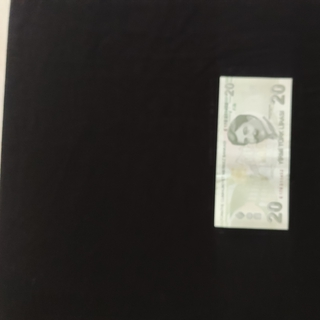20TLBack: (213, 75, 293, 231)
